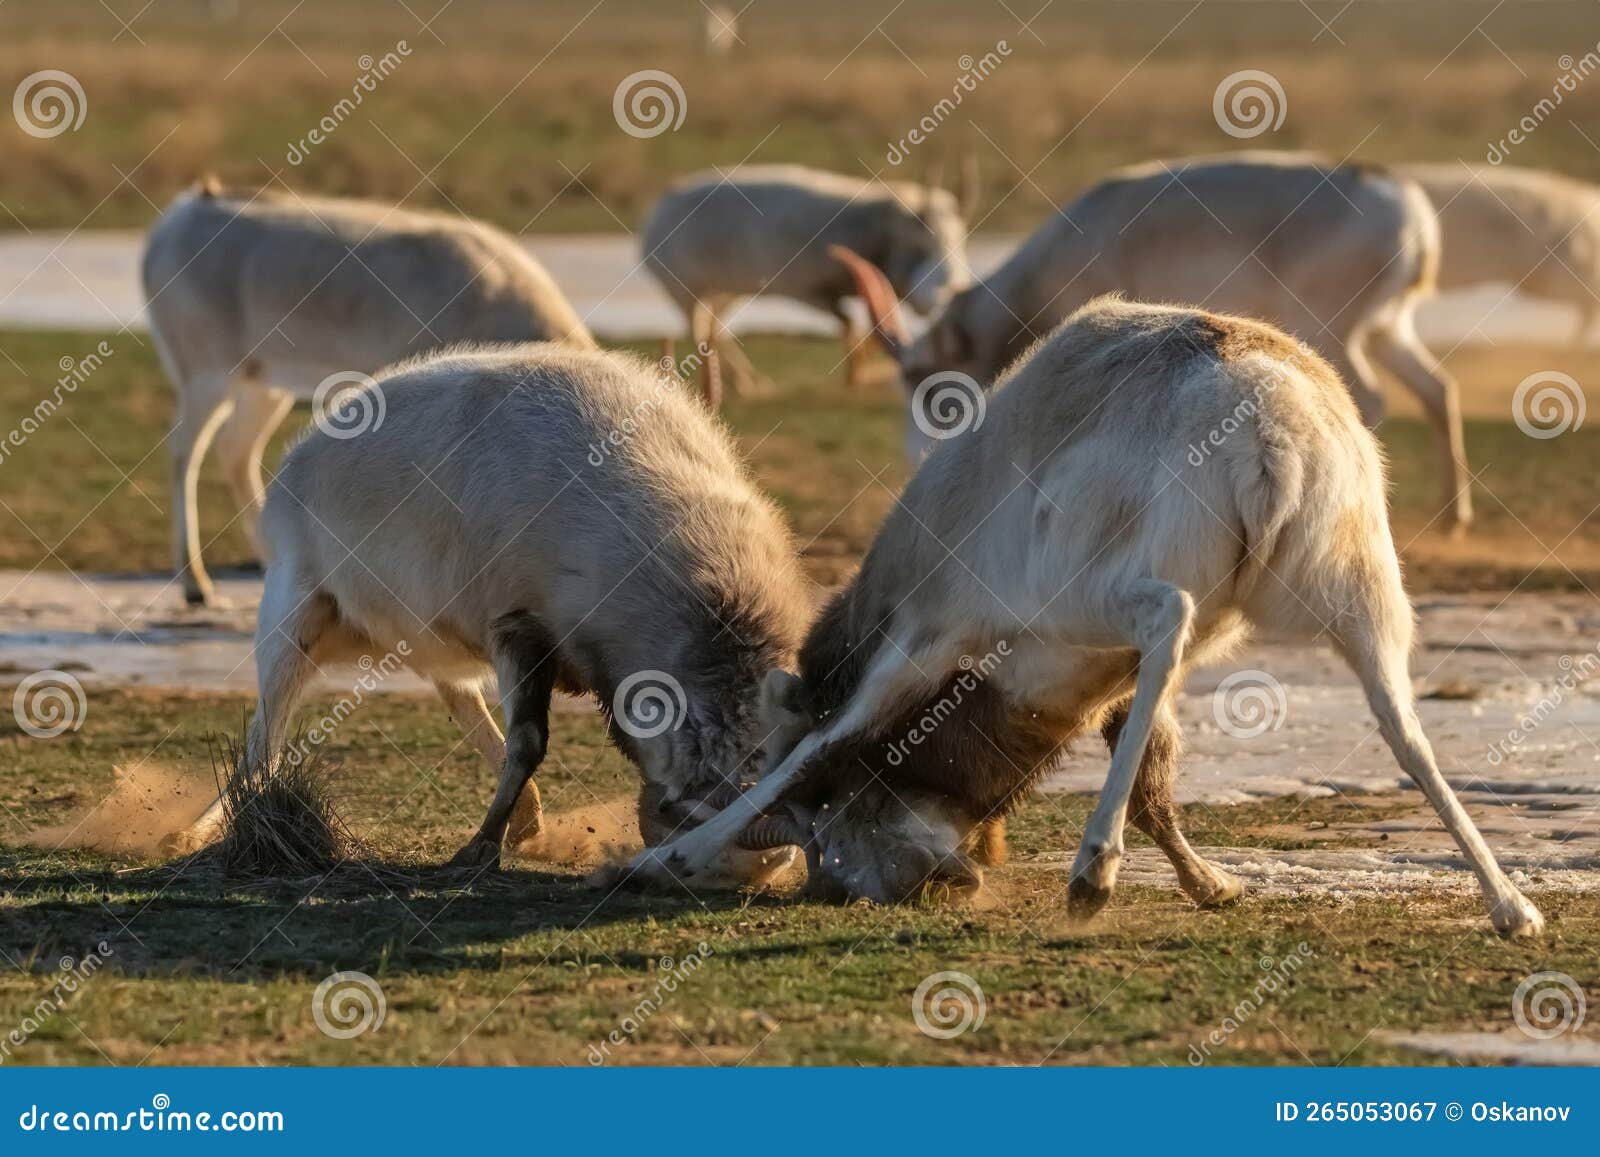saiga: (653, 288, 1569, 974)
